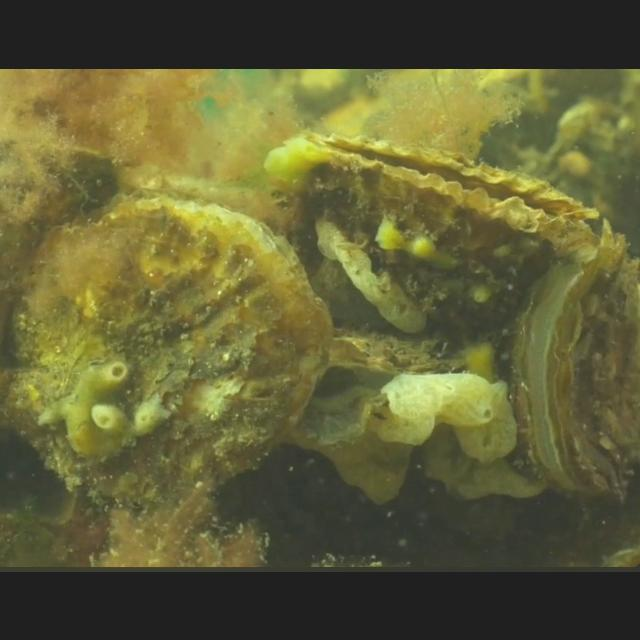Oyster-Closed: (3, 195, 335, 521)
Oyster-Open: (266, 132, 604, 336), (510, 216, 640, 498), (297, 324, 508, 446)
